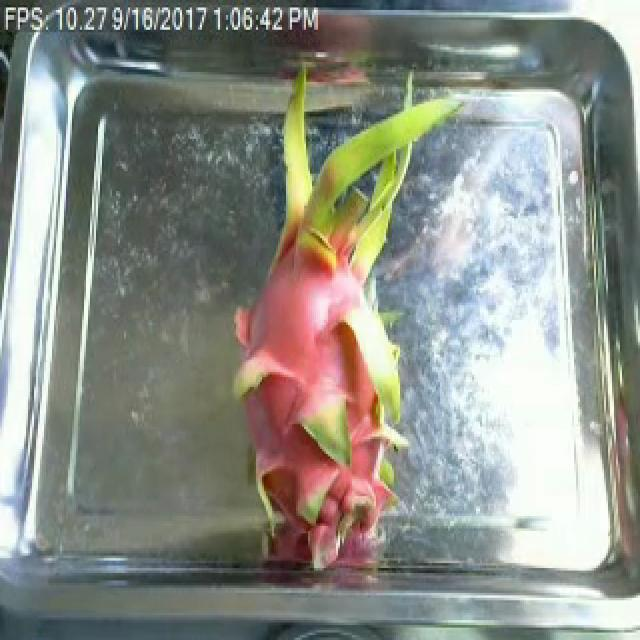fruit: (210, 191, 452, 585)
